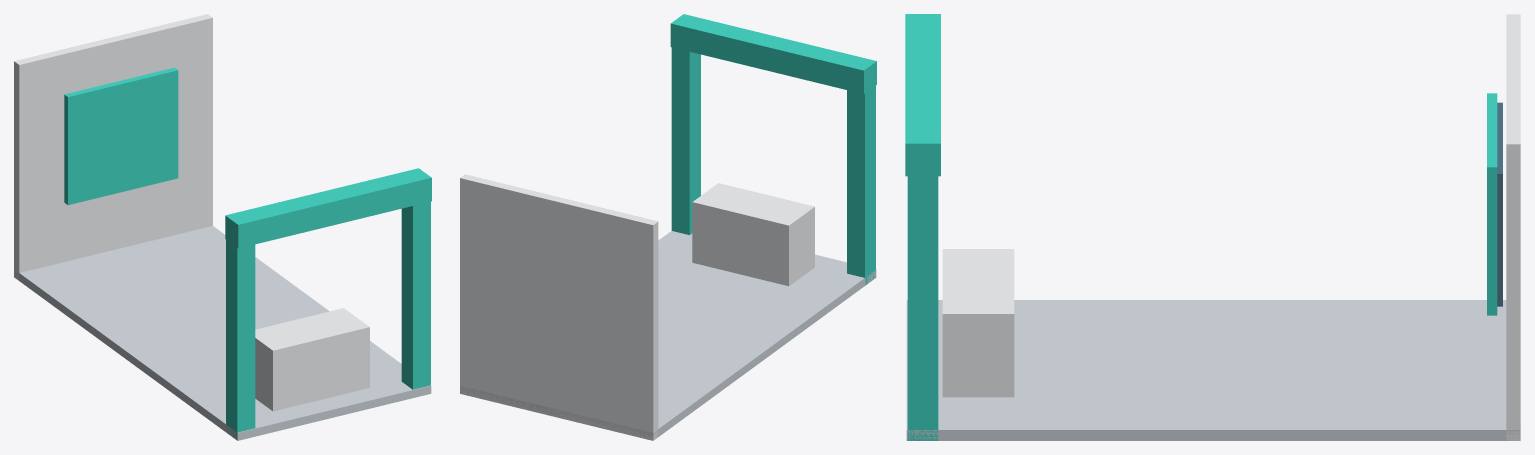
3 views of the same model, side by side, from view 1: azimuth 30°, elevation 25°; view 2: azimuth 150°, elevation 25°; view 3: azimuth 270°, elevation 25° (orthographic). The views are drawn at different scales.
Visible parts, largest first — view 1: Exhibition Booth Concept; view 2: Exhibition Booth Concept; view 3: Exhibition Booth Concept.
Boxes of the visible parts, box(x1,y1,x2,y2) form: Exhibition Booth Concept: box(14, 14, 431, 440); Exhibition Booth Concept: box(460, 14, 876, 440); Exhibition Booth Concept: box(905, 14, 1520, 440).
Size of the model in its own units: 3 by 3.2 by 6.02.
